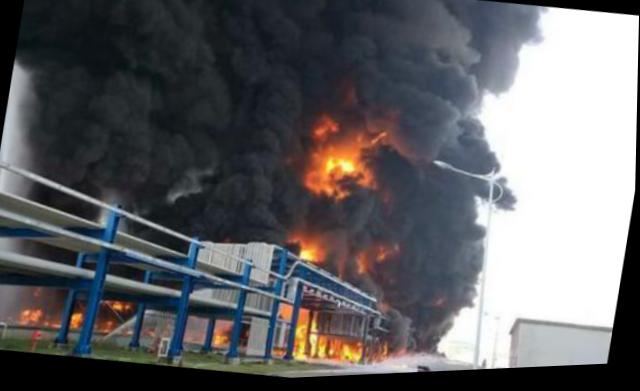fire: (302, 132, 371, 205), (289, 308, 311, 358), (327, 335, 364, 364), (211, 317, 235, 348), (297, 237, 325, 263), (307, 332, 331, 358), (17, 304, 41, 323), (280, 304, 295, 321), (69, 312, 84, 329), (110, 300, 130, 310)
